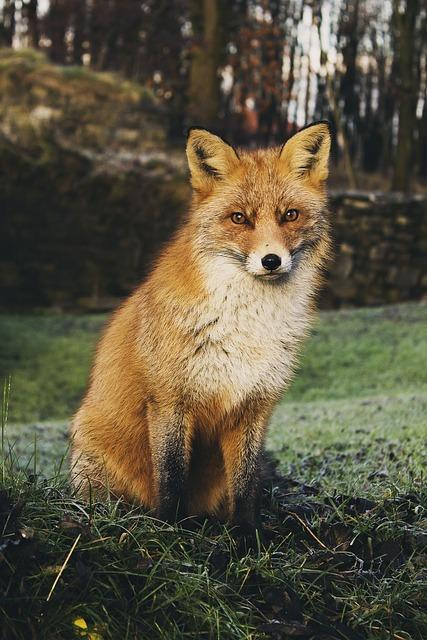fox: (76, 117, 340, 533)
